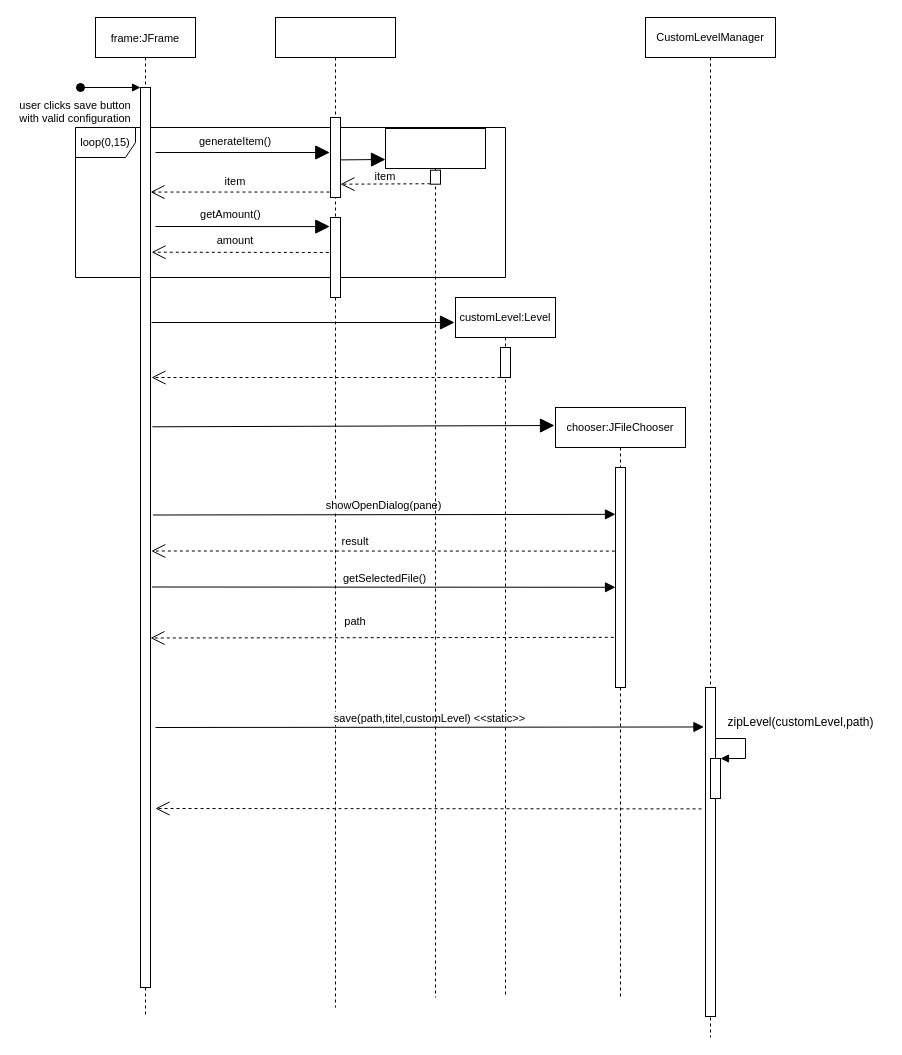
The diagram is 902 pixels wide and 1055 high, and some of its shapes have lost their labels. Here are the shapes that lost their labels. From the top down, the box of each, then its label:
(274, 16, 396, 1008): itemPanel:itemPanel
(384, 128, 486, 998): item:Item
